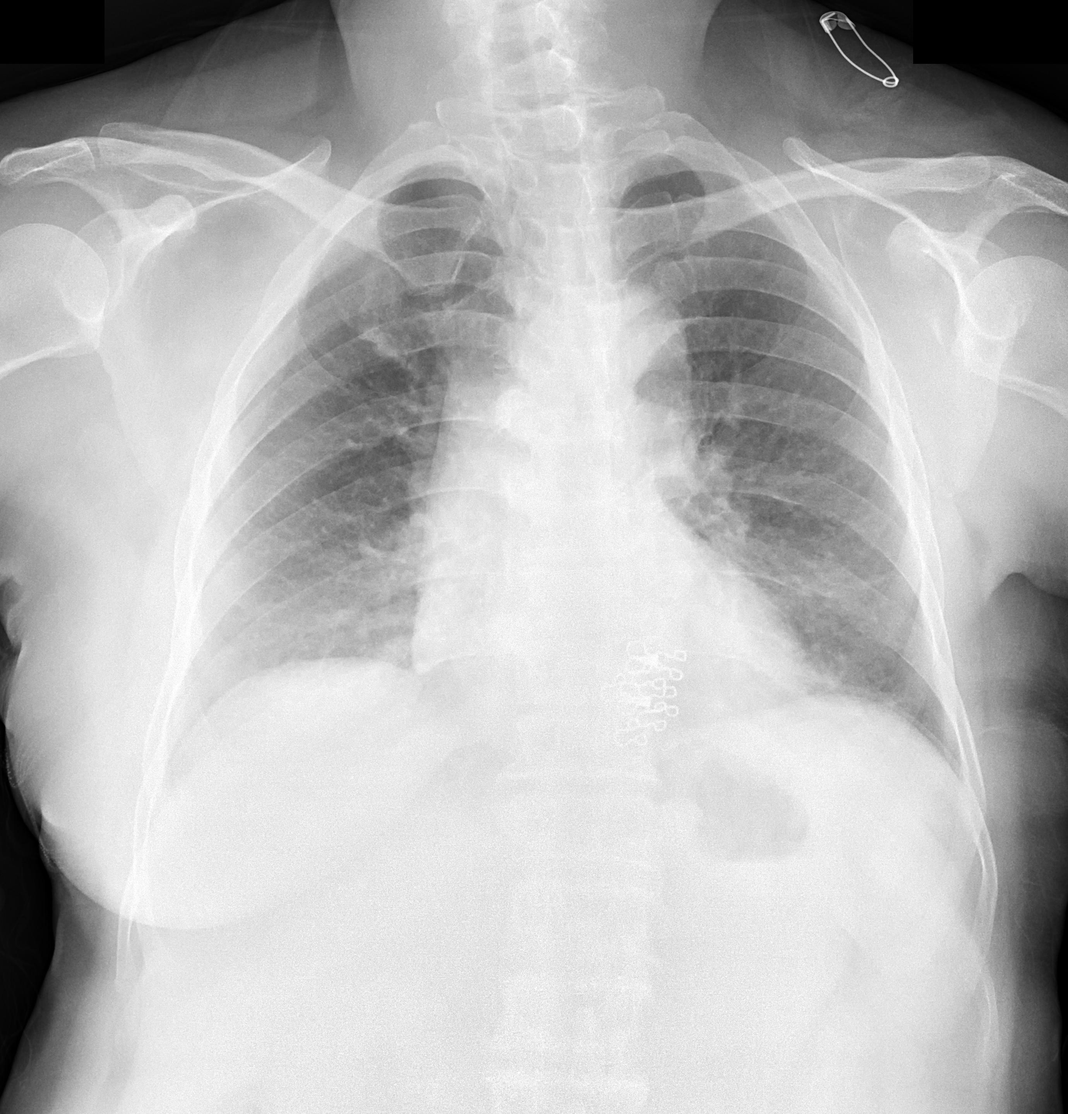Aortic enlargement: (441, 290, 689, 467)
